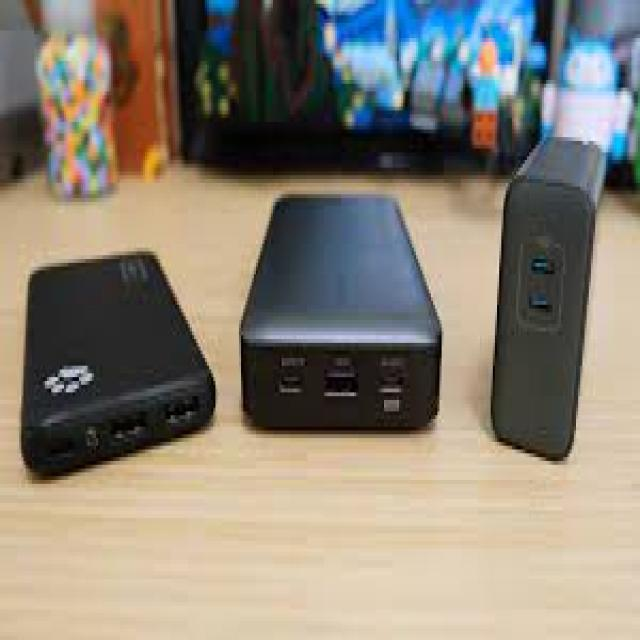portable-charger: (233, 179, 448, 457), (17, 236, 222, 495), (489, 126, 608, 472)
